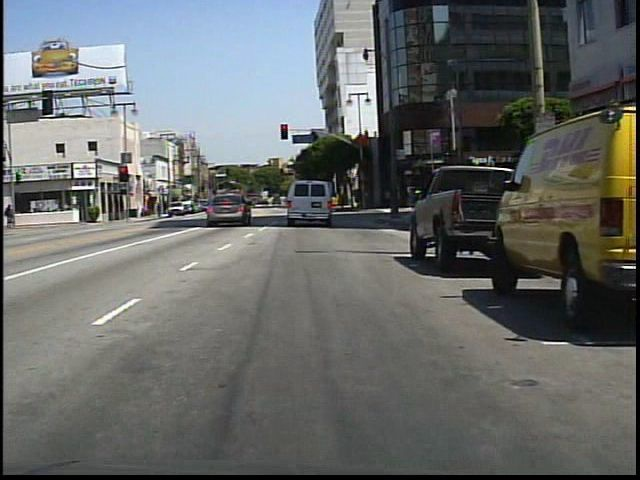person: (295, 187, 315, 222), (5, 202, 19, 230), (241, 193, 255, 219)
